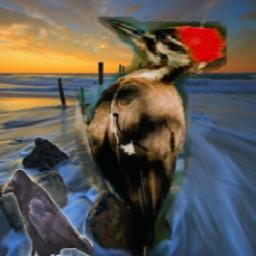Crow: (3, 169, 94, 256)
Woodpecker: (70, 18, 227, 256)
